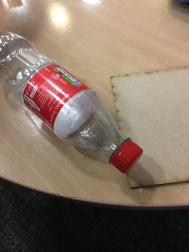bottle_red: (1, 27, 149, 184)
